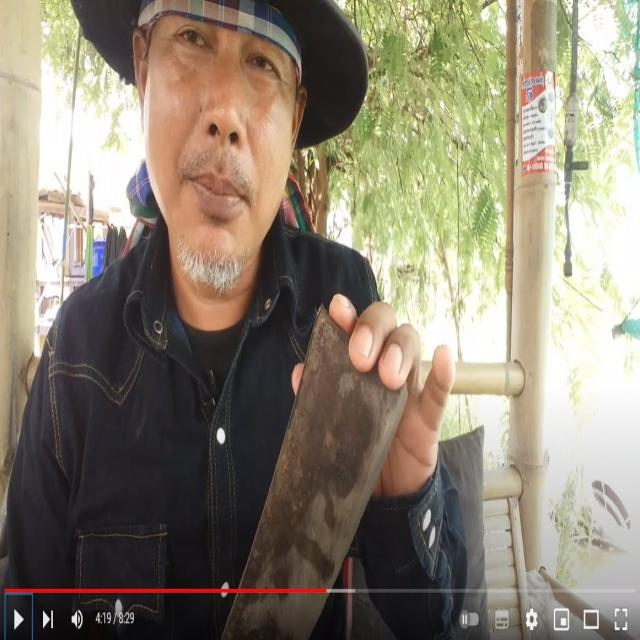eto: (216, 308, 408, 640)
